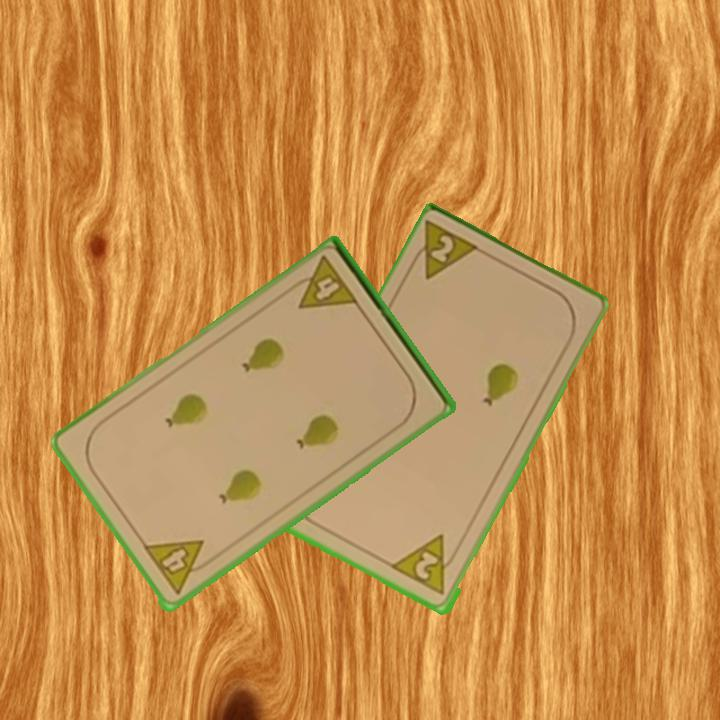2p: (404, 218, 485, 284), (390, 531, 462, 600)
4p: (139, 536, 217, 598), (284, 252, 362, 313)
